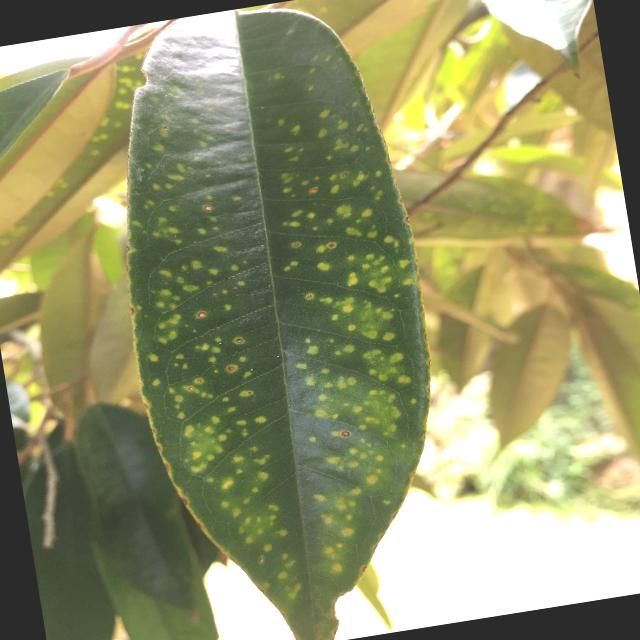Leaf Spot: (75, 0, 483, 639)
